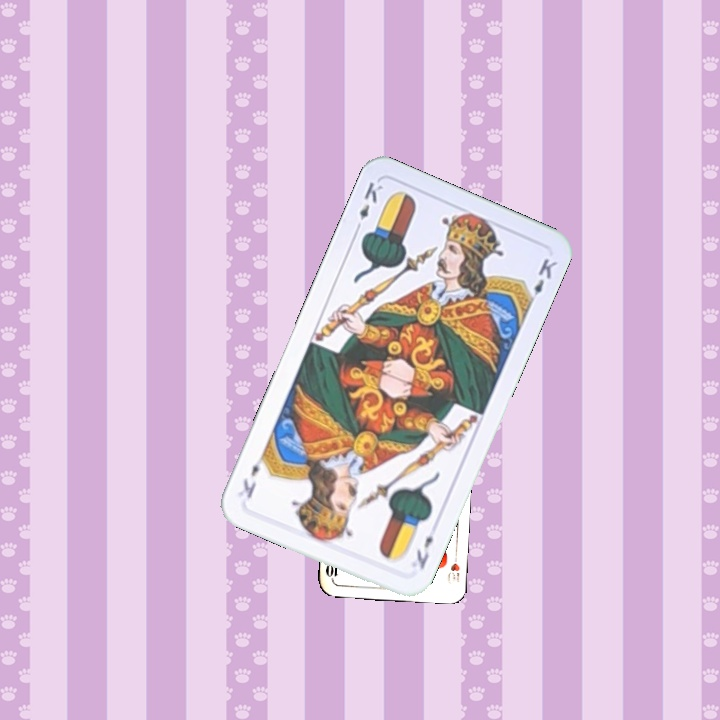EK: (350, 178, 386, 235), (412, 531, 436, 572)
H10: (444, 547, 463, 586)
